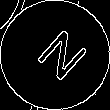N_SW: (23, 23, 87, 87)
